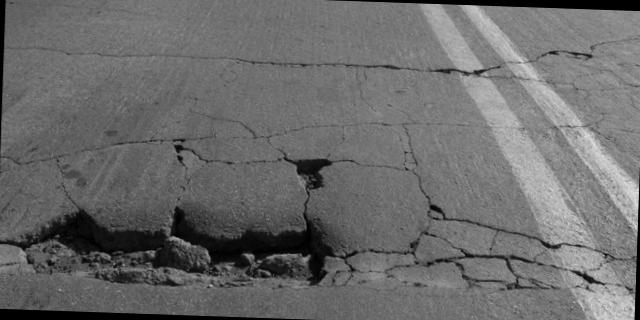Pothole: (0, 185, 363, 297), (277, 147, 332, 208)
